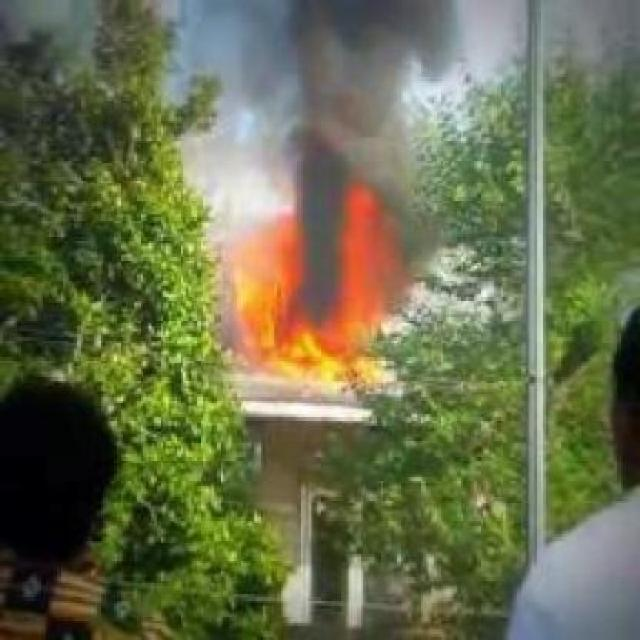Fire: (234, 192, 382, 392)
Smoke: (226, 0, 456, 191)
